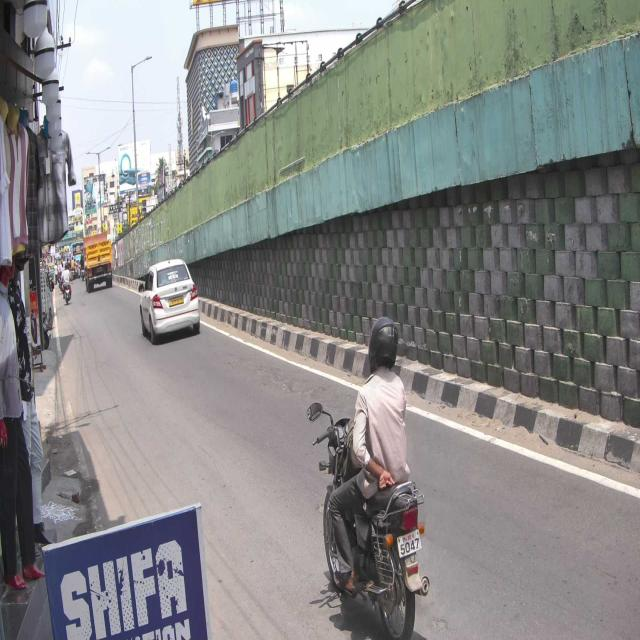single_rider: (311, 315, 430, 640)
